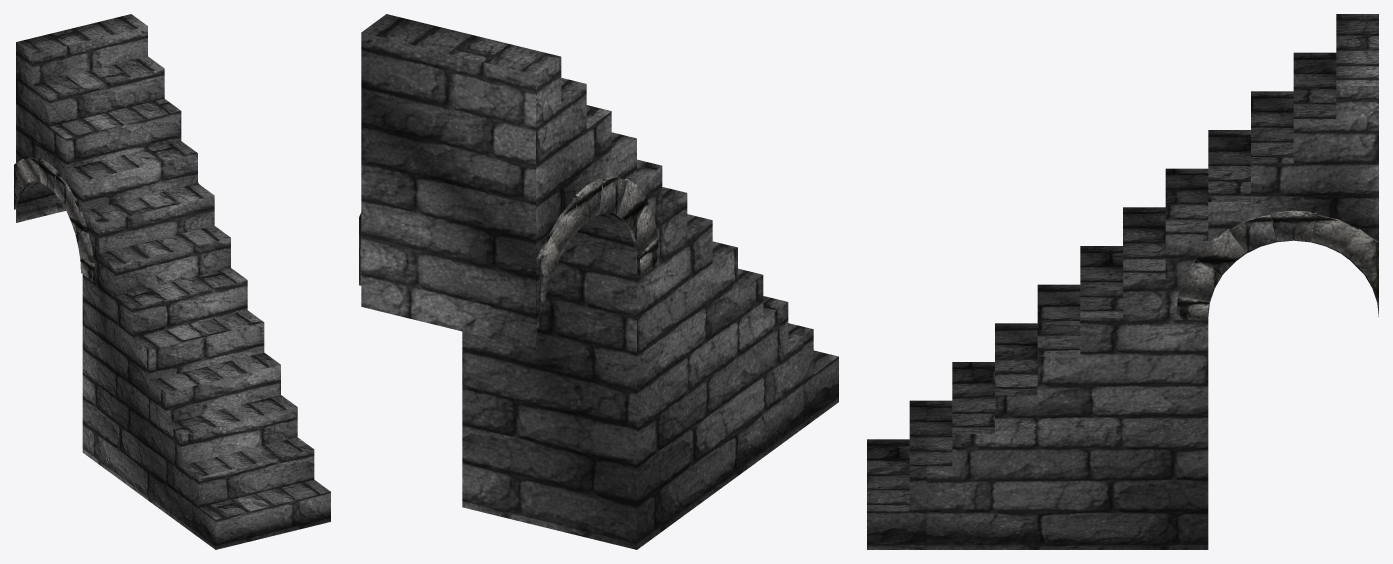
Rendered from stone stairs doorway.glb.
The picture shows the model from 3 angles, left to right: view 1: azimuth 30°, elevation 25°; view 2: azimuth 150°, elevation 25°; view 3: azimuth 270°, elevation 25°; orthographic projection. The views are drawn at different scales.
Visible parts, largest first — view 1: Steps, Arch; view 2: Steps, Arch; view 3: Steps, Arch.
Part boxes in pixels (box(x1,y1,x2,y2)): Steps, Arch: box(14, 14, 330, 549); Steps, Arch: box(359, 14, 838, 549); Steps, Arch: box(867, 14, 1378, 549).
Size of the model in its own units: 0.9423 by 2.74 by 2.74.
2 materials, 2 textured.
